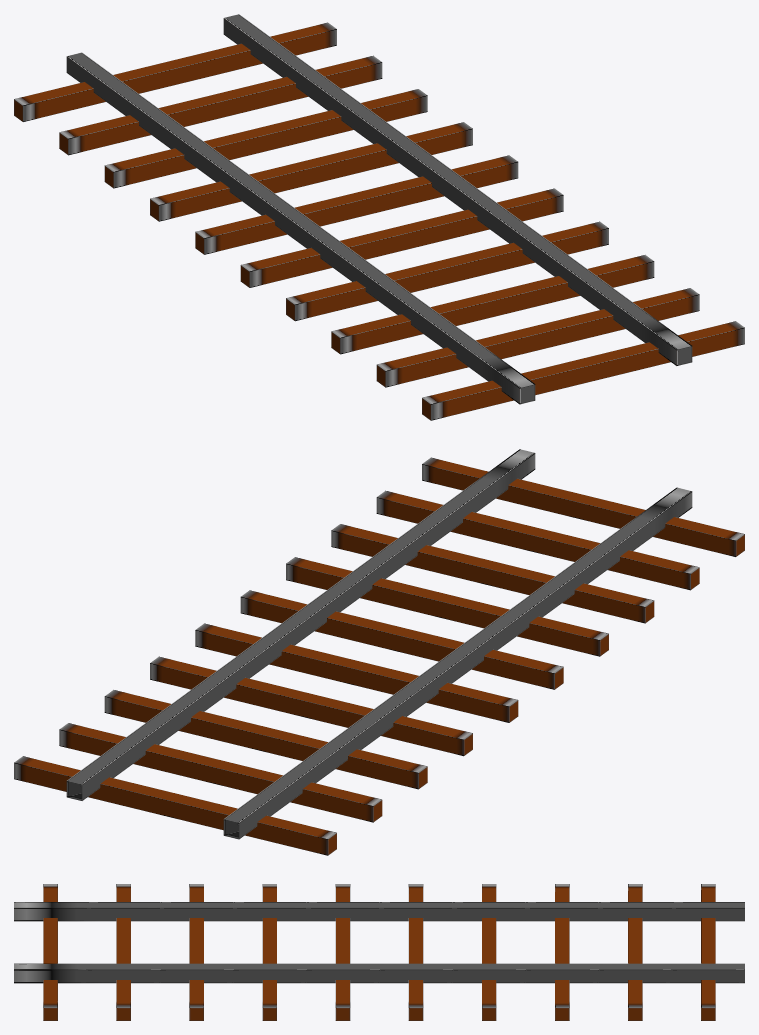
The model's file is traintrack.fbx.
3 views of the same model, one above another, from view 1: azimuth 30°, elevation 25°; view 2: azimuth 150°, elevation 25°; view 3: azimuth 270°, elevation 25° (orthographic). The views are drawn at different scales.
Parts seen in each view (by area): view 1: Cube.002; view 2: Cube.002; view 3: Cube.002.
Boxes of the visible parts, x1,y1,x2,y2 form: Cube.002: (14,14,744,420); Cube.002: (14,449,744,855); Cube.002: (14,884,744,1020).
Size of the model in its own units: 400 by 35 by 1000.
